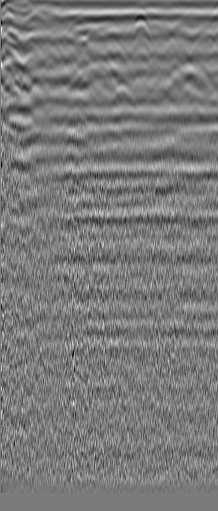오수: (21, 5, 47, 31)
우수: (167, 23, 187, 43)
